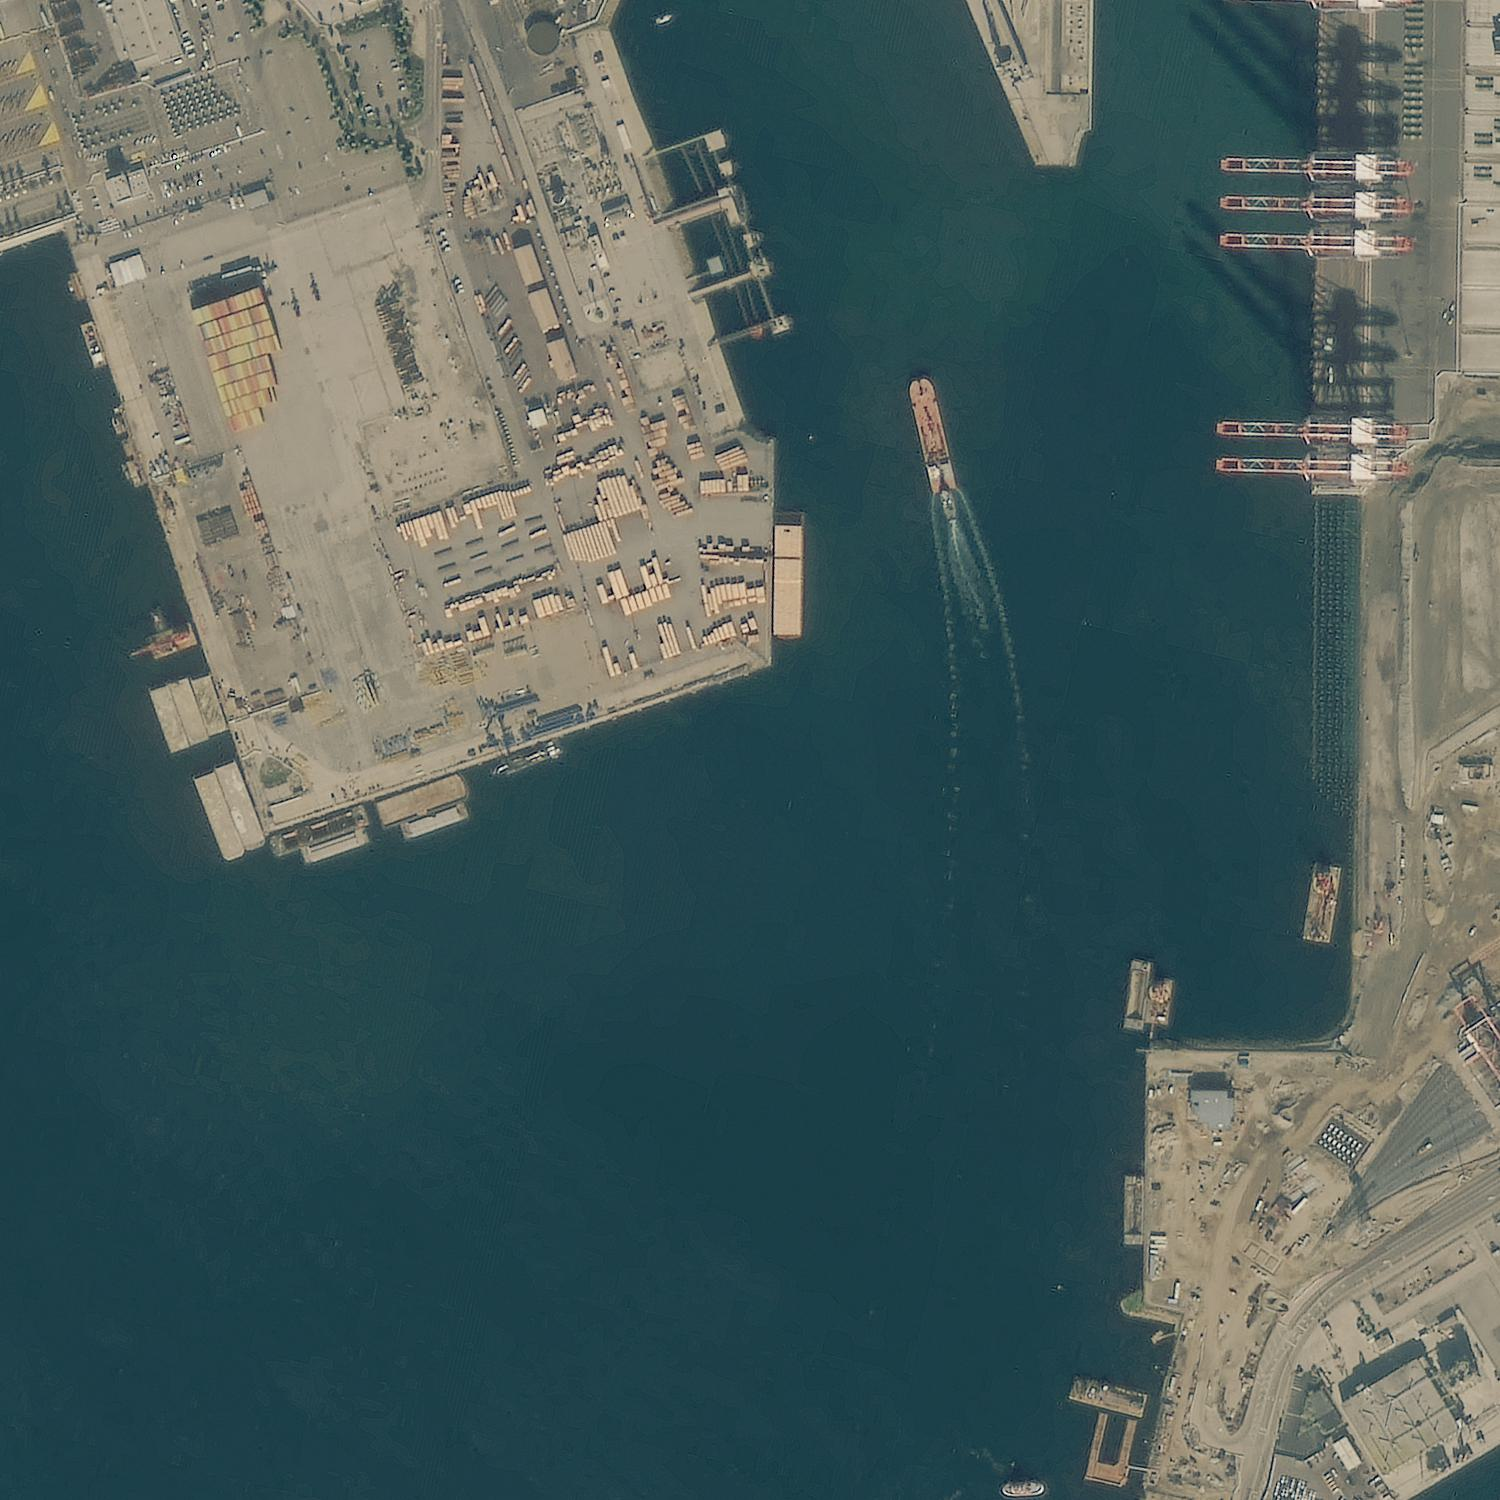A9: (188, 362, 316, 498), (441, 88, 560, 230), (434, 365, 552, 506), (201, 81, 316, 216)
